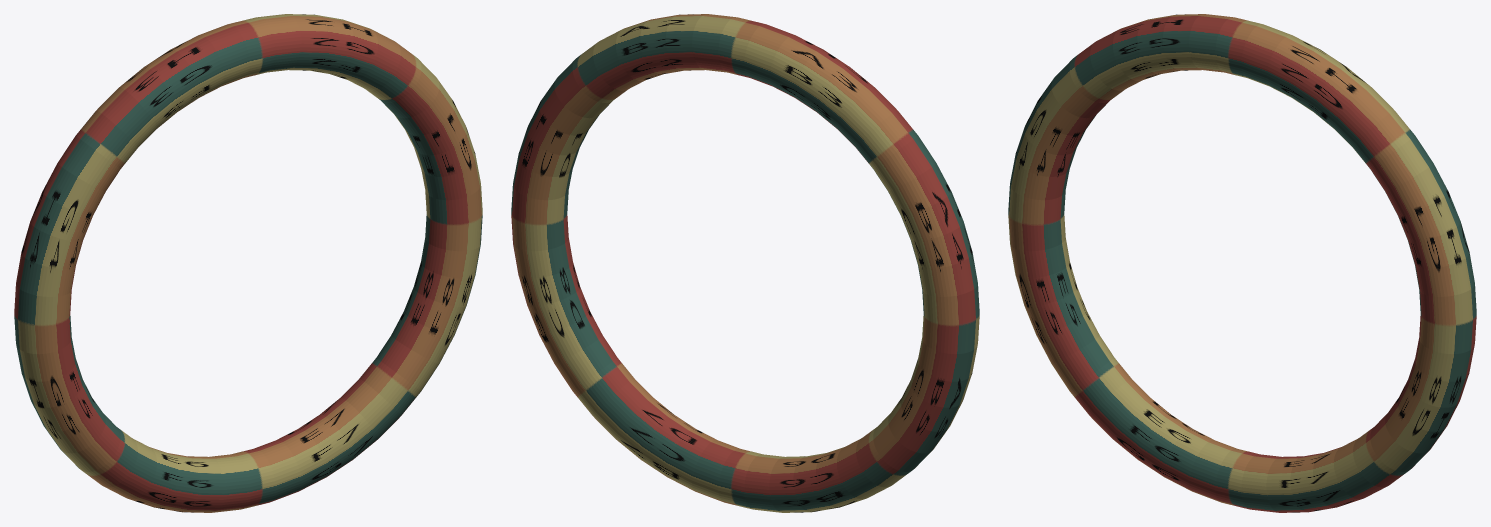
The model's file is texture_torus_R24_r4.glb.
3 renders of one model, left to right at view 1: azimuth 30°, elevation 25°; view 2: azimuth 150°, elevation 25°; view 3: azimuth 330°, elevation 25°, orthographic.
Parts seen in each view (by area): view 1: world; view 2: world; view 3: world.
Boxes of the visible parts, bbox=[...] form: world: bbox=[14, 14, 482, 512]; world: bbox=[511, 14, 979, 512]; world: bbox=[1008, 14, 1476, 512].
Bounding box in the file's own units: 29.07 × 29.01 × 3.06.
1 material, 1 textured.
